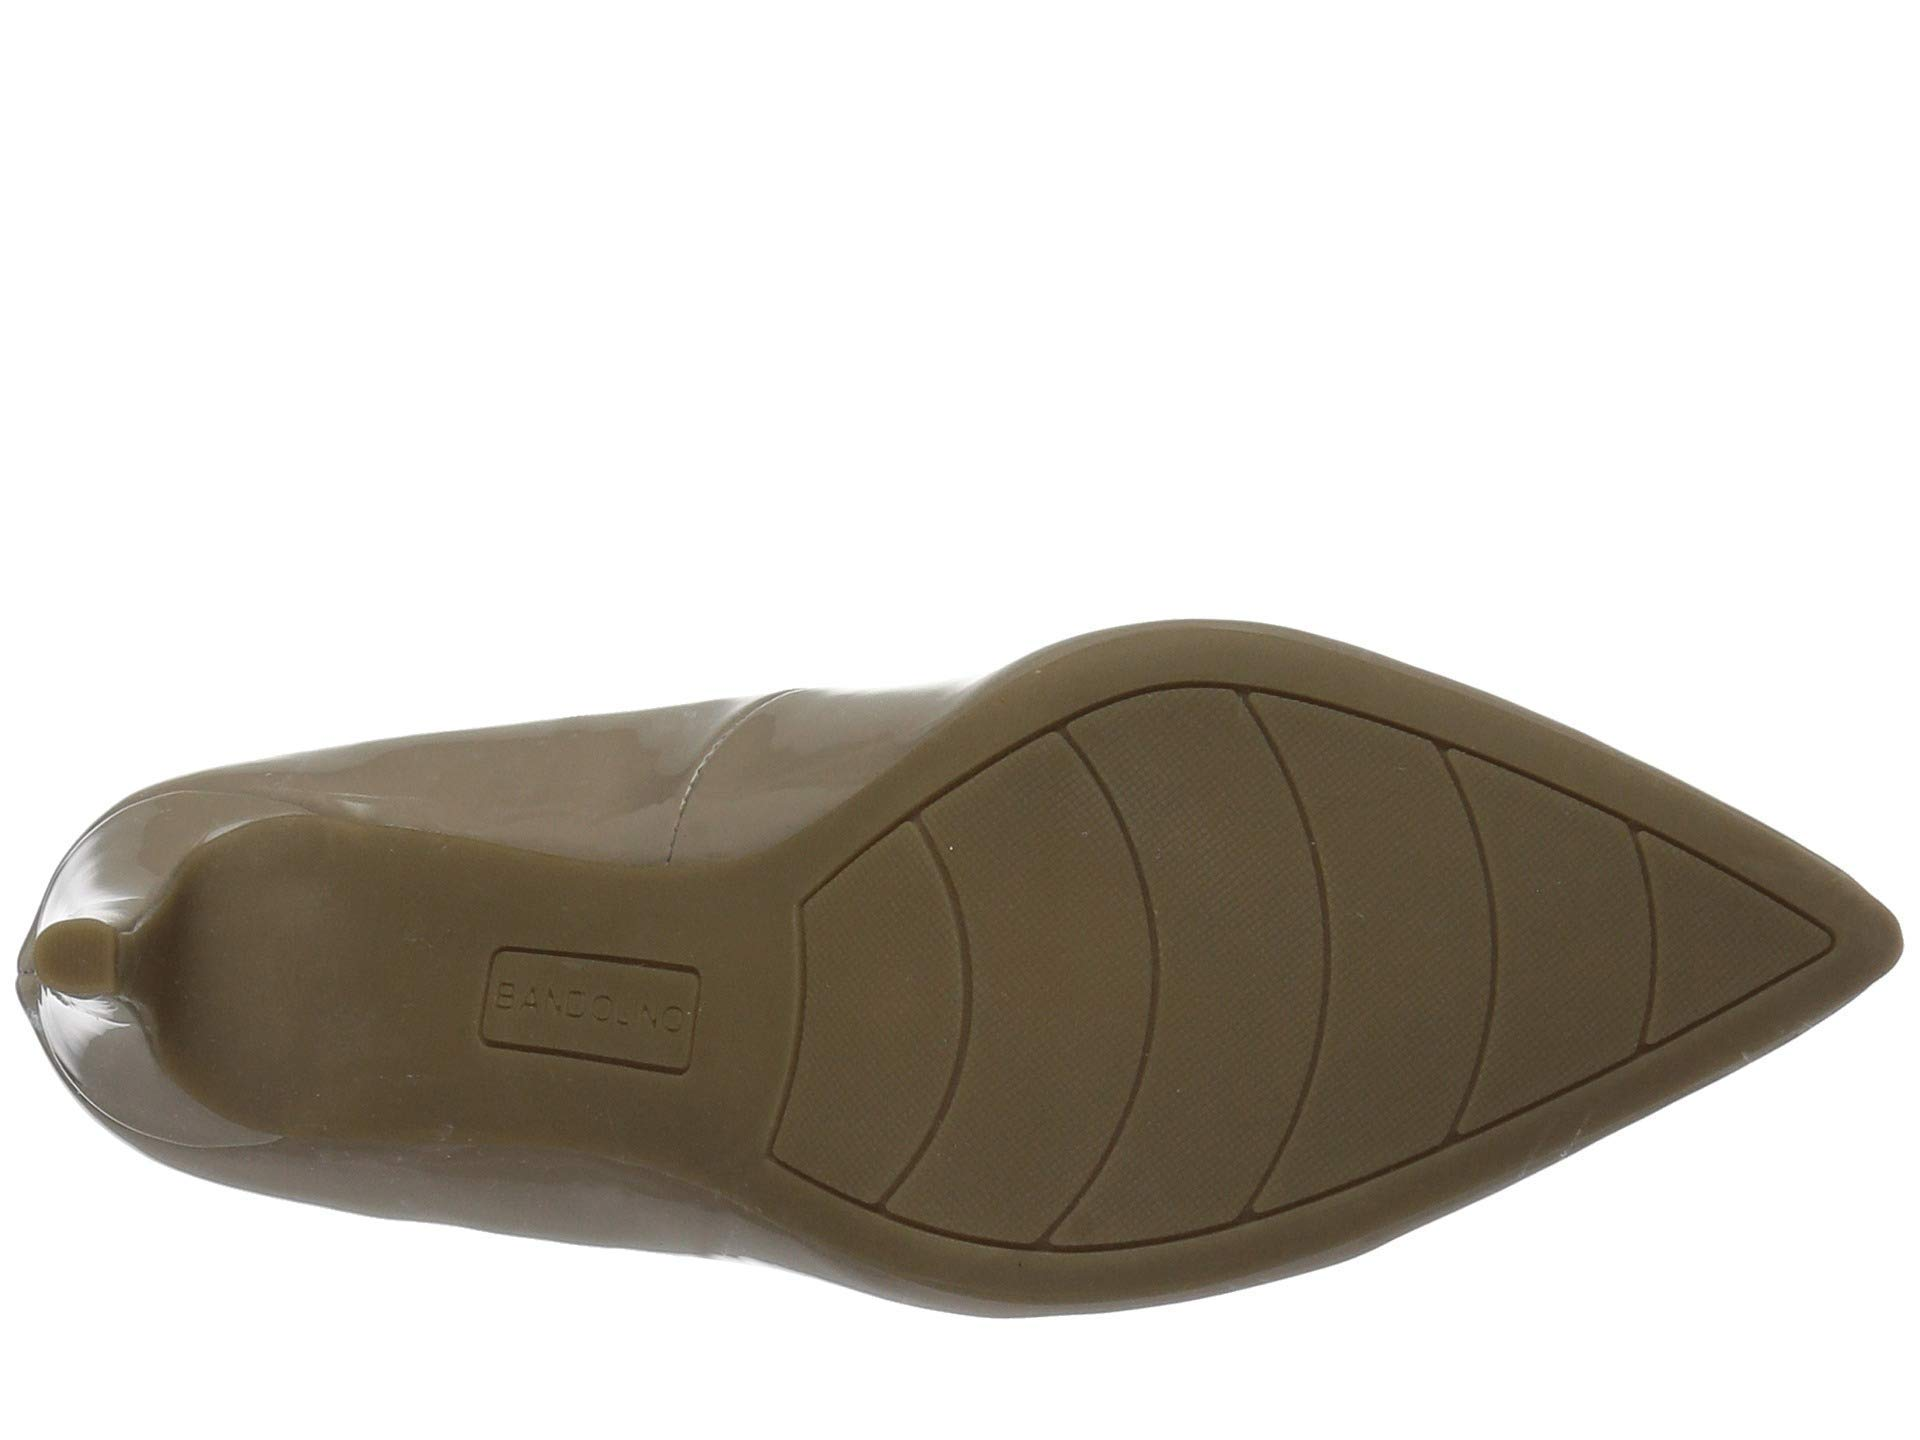exclude: (248, 720, 748, 1221)
line: (980, 672, 1843, 1083)
quad: (980, 672, 1843, 1083), (779, 811, 968, 1231)
triangle: (980, 672, 1843, 1083)
